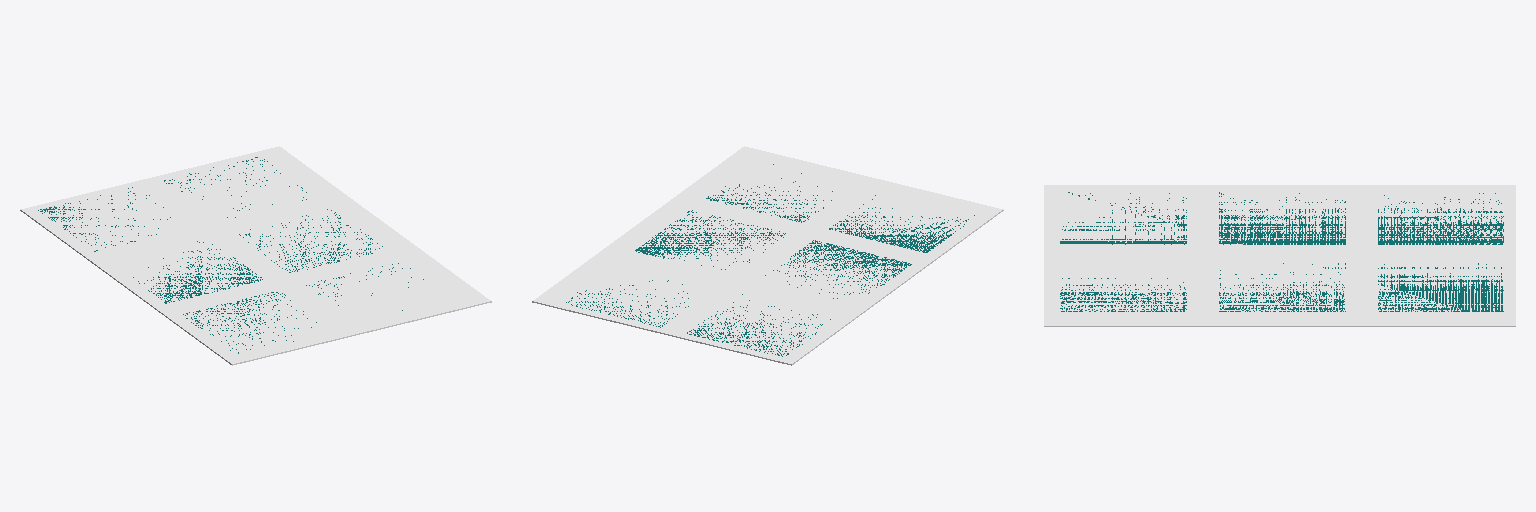
The robot description file, URDF, robot "calibration_2b":
<?xml version="1.0" encoding="utf-8"?>
  
<robot name="calibration_2b">

  <!-- upper left corner of grid  -->
  <link name="calibration_2b_base_link">
    <visual>  
     <origin xyz ="0.105 0.1485 0" rpy ="0 0 0"/>
     <geometry>
       <box size="0.21 0.297 1e-3" />
     </geometry>
     <material name="TransparentWhite">
       <color rgba="1 1 1 0.2"/>
     </material>
   </visual>
  </link>

  <!-- aruco 919 -->
  <link name="aruco_919">
    <visual>  
     <geometry>
       <box size="0.08 0.08 0.001" />
     </geometry>
     <material name="Cyan">
       <color rgba="0.1 0.5 0.5 0.8"/>
     </material>
   </visual>
  </link>

  <!-- aruco 920   -->
  <link name="aruco_920">
    <visual>  
     <geometry>
       <box size="0.08 0.08 0.001" />
     </geometry>
     <material name="Cyan">
       <color rgba="0.1 0.5 0.5 0.8"/>
     </material>
   </visual>
  </link>

  <!-- aruco 921   -->
  <link name="aruco_921">
    <visual>  
     <geometry>
       <box size="0.08 0.08 0.001" />
     </geometry>
     <material name="Cyan">
       <color rgba="0.1 0.5 0.5 0.8"/>
     </material>
   </visual>
  </link>

  <!-- aruco 922   -->
  <link name="aruco_922">
    <visual>  
     <geometry>
       <box size="0.08 0.08 0.001" />
     </geometry>
     <material name="Cyan">
       <color rgba="0.1 0.5 0.5 0.8"/>
     </material>
   </visual>
  </link>

  <!-- aruco 923   -->
  <link name="aruco_923">
    <visual>  
     <geometry>
       <box size="0.08 0.08 0.001" />
     </geometry>
     <material name="Cyan">
       <color rgba="0.1 0.5 0.5 0.8"/>
     </material>
   </visual>
  </link>

  <!-- aruco 924   -->
  <link name="aruco_924">
    <visual>  
     <geometry>
       <box size="0.08 0.08 0.001" />
     </geometry>
     <material name="Cyan">
       <color rgba="0.1 0.5 0.5 0.8"/>
     </material>
   </visual>
  </link>

  <!-- position aruco markers -->
  <joint name="base_link-aruco_919" type="fixed">
    <origin rpy="0 0 0" xyz="0.05 0.05 0"/>
    <parent link="calibration_2b_base_link"/>
    <child link="aruco_919"/>
  </joint>

  <joint name="base_link-aruco_920" type="fixed">
    <origin rpy="0 0 0" xyz="0.15 0.05 0"/>
    <parent link="calibration_2b_base_link"/>
    <child link="aruco_920"/>
  </joint>

  <joint name="base_link-aruco_921" type="fixed">
    <origin rpy="0 0 0" xyz="0.05 0.15 0"/>
    <parent link="calibration_2b_base_link"/>
    <child link="aruco_921"/>
  </joint>

  <joint name="base_link-aruco_922" type="fixed">
    <origin rpy="0 0 0" xyz="0.15 0.15 0"/>
    <parent link="calibration_2b_base_link"/>
    <child link="aruco_922"/>
  </joint>

  <joint name="base_link-aruco_923" type="fixed">
    <origin rpy="0 0 0" xyz="0.05 0.25 0"/>
    <parent link="calibration_2b_base_link"/>
    <child link="aruco_923"/>
  </joint>

  <joint name="base_link-aruco_924" type="fixed">
    <origin rpy="0 0 0" xyz="0.15 0.25 0"/>
    <parent link="calibration_2b_base_link"/>
    <child link="aruco_924"/>
  </joint>

</robot>

--- Render facts (derived) ---
The picture shows the robot from 3 angles, left to right: view 1: azimuth 30°, elevation 25°; view 2: azimuth 150°, elevation 25°; view 3: azimuth 270°, elevation 25°; orthographic projection.
Model calibration_2b with 7 links and 6 joints (6 fixed), rooted at calibration_2b_base_link, posed every joint at zero.
Visible links, largest first — view 1: calibration_2b_base_link, aruco_921, aruco_922; view 2: calibration_2b_base_link, aruco_922, aruco_921, aruco_919, aruco_923; view 3: calibration_2b_base_link, aruco_924, aruco_921, aruco_923, aruco_922, aruco_920, aruco_919.
Link boxes in pixels (<box>): calibration_2b_base_link: <box>20,146,491,365</box>; aruco_921: <box>133,241,262,303</box>; aruco_922: <box>239,209,382,272</box>; calibration_2b_base_link: <box>532,146,1003,365</box>; aruco_922: <box>635,210,785,269</box>; aruco_921: <box>765,240,911,298</box>; aruco_919: <box>829,195,974,252</box>; aruco_923: <box>687,294,830,356</box>; calibration_2b_base_link: <box>1044,185,1515,326</box>; aruco_924: <box>1378,263,1503,311</box>; aruco_921: <box>1219,192,1345,244</box>; aruco_923: <box>1378,193,1503,244</box>; aruco_922: <box>1219,263,1345,311</box>; aruco_920: <box>1060,278,1186,311</box>; aruco_919: <box>1060,192,1186,244</box>.
Bounding box of the posed robot: 0.21 × 0.297 × 0.001 m (x, y, z).
Geometry: primitives only (box / cylinder / sphere), no mesh files.
